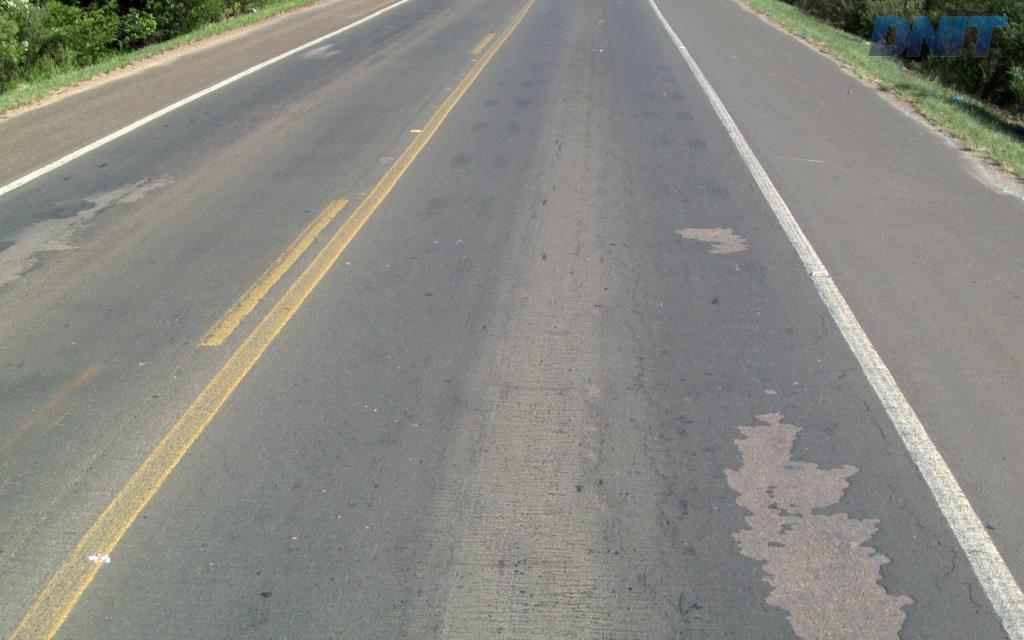pothole: (717, 399, 928, 638), (658, 216, 755, 255)
